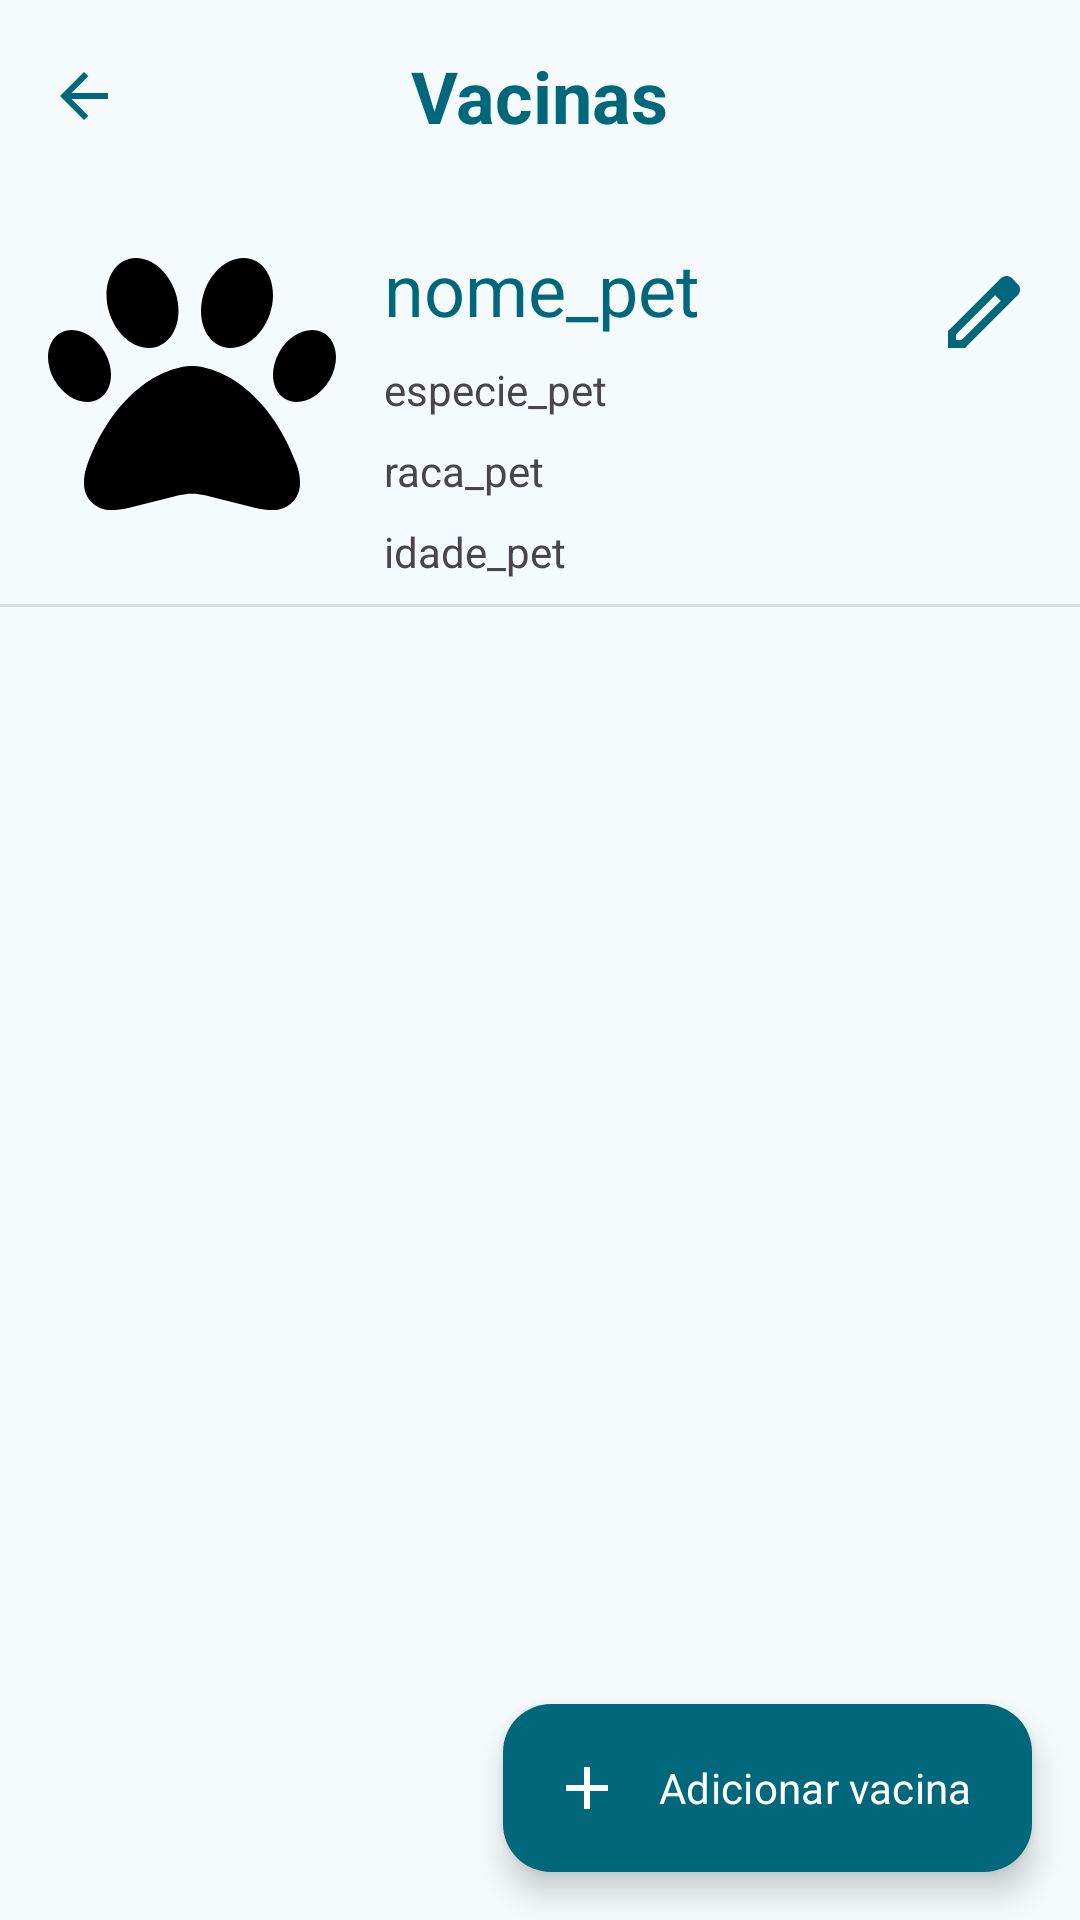

Icon click points for this 1080*1920 phone screenshot, format (x,y):
arrow back: (84,96)
edit: (984,312)
paw: (192,384)
